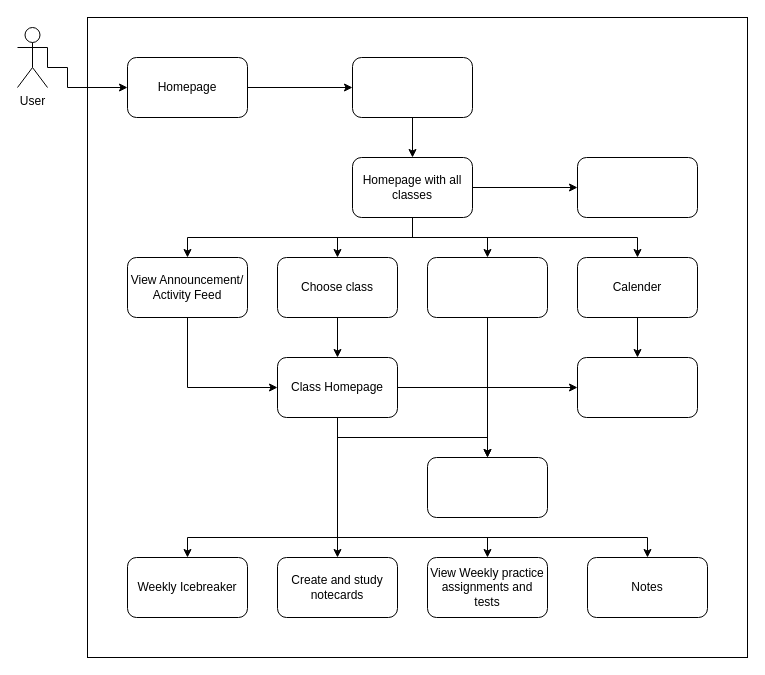
This 765x675 diagram has some shape labels left out. The shapes that lost their labels are listed below. From the top down, each one's centre as x and y in pixels, then its label:
At [412,87]: "Signup / Login".
At [637,187]: "Redeem rewards".
At [487,287]: "Individual and Group chat".
At [637,387]: "View calendar with weekly group and study session".
At [487,487]: "View class, group and private messages".
